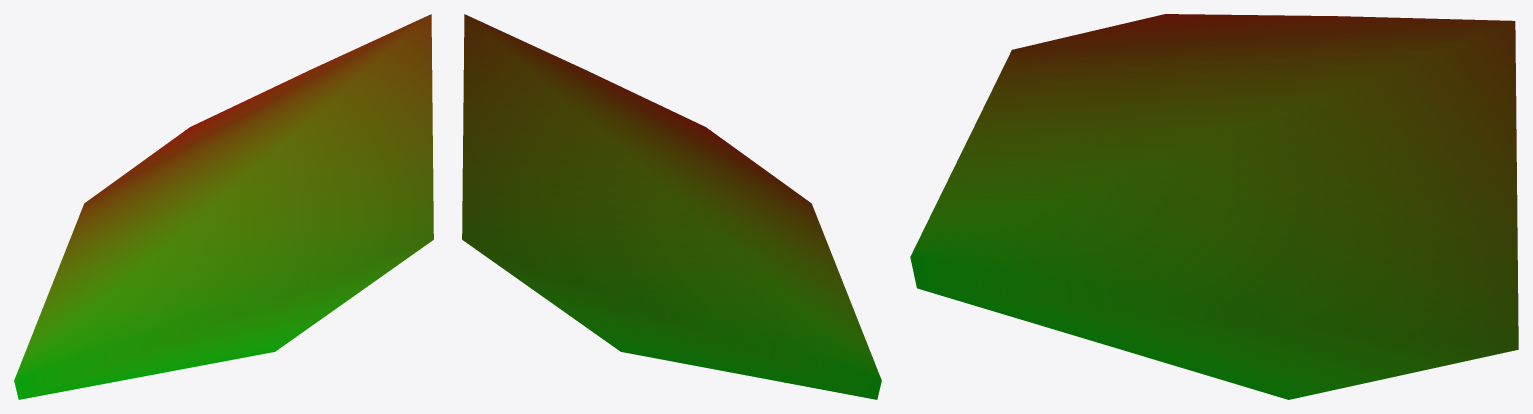
Rendered from River Saltbush_LOD4_Var6_vdfpcgbia.fbx.
3 renders of one model, left to right at view 1: azimuth 30°, elevation 25°; view 2: azimuth 150°, elevation 25°; view 3: azimuth 330°, elevation 25°, orthographic. The views are drawn at different scales.
Parts seen in each view (by area): view 1: _n4jm_Var6_LOD4; view 2: _n4jm_Var6_LOD4; view 3: _n4jm_Var6_LOD4.
Part boxes in pixels (x1,y1,x2,y2): _n4jm_Var6_LOD4: [14, 14, 433, 399]; _n4jm_Var6_LOD4: [462, 14, 881, 399]; _n4jm_Var6_LOD4: [910, 14, 1518, 399].
Bounding box in the file's own units: 34.62 × 23.62 × 1.71e-06.
